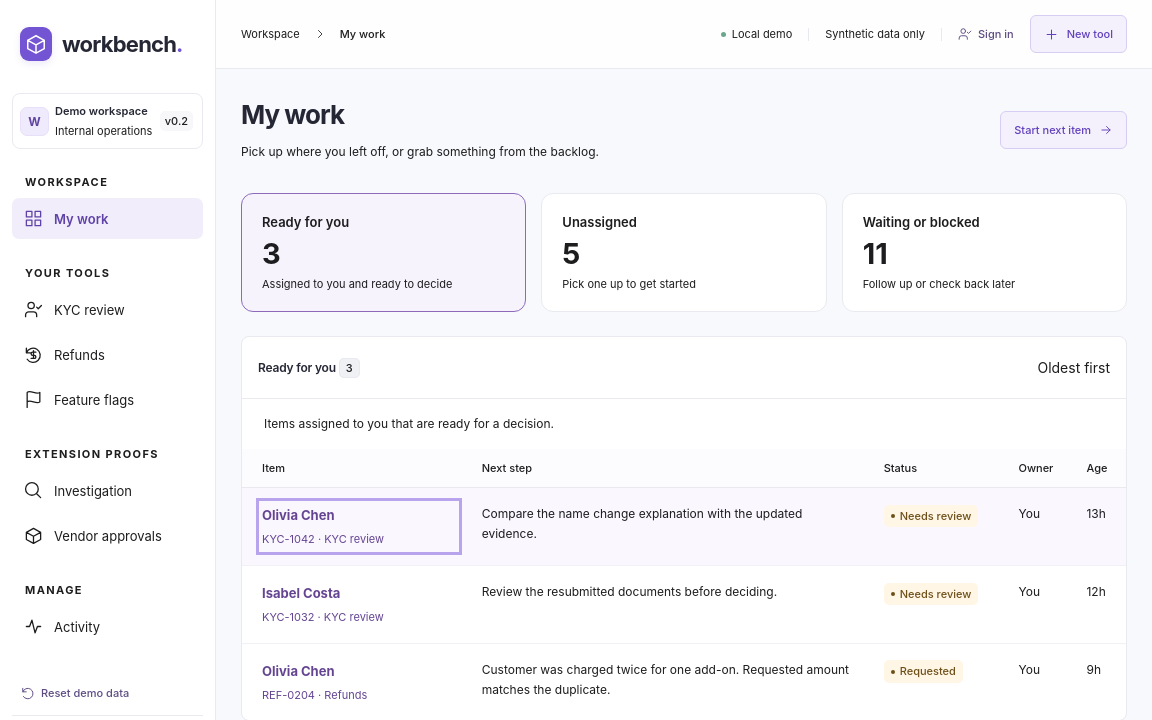
it: task-first local workspace and references (jsdom) › opens the oldest assigned item by keyboard and returns focus to its stable local reference
The width and height of the screenshot is (1152, 720).
Expected: the link "Olivia Chen KYC-1042 · KYC review" is shown, [262,507,384,546]
Press Enter
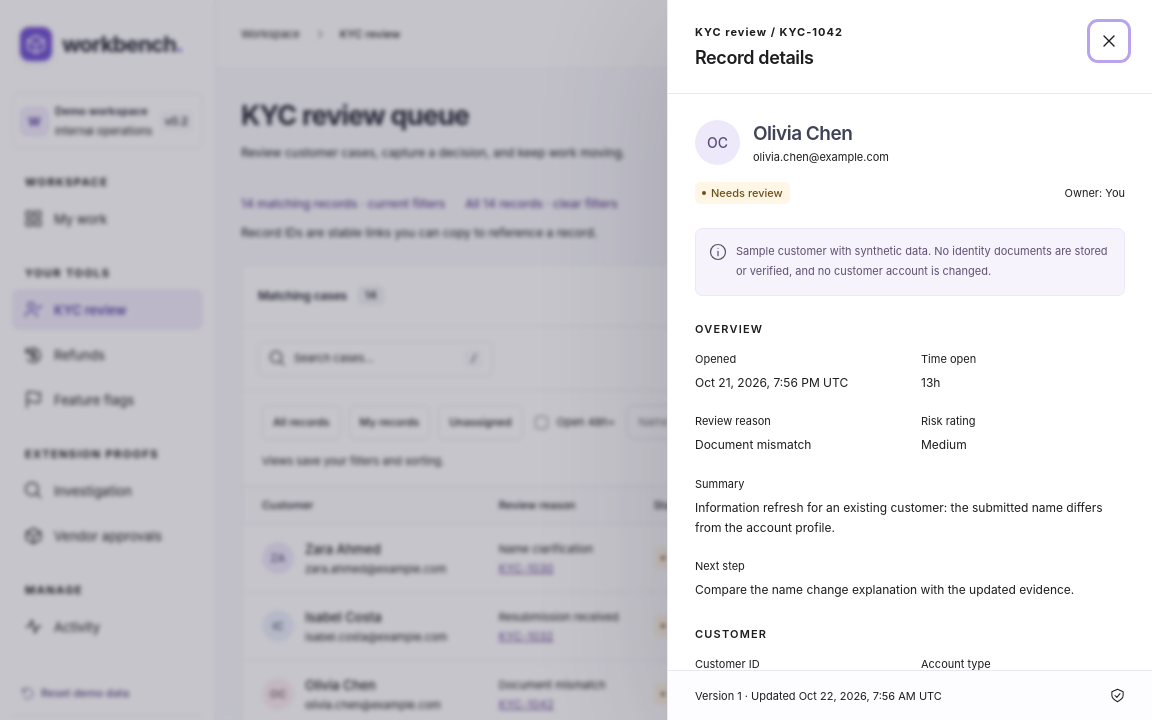
Expected: the heading "Olivia Chen" is shown, [753,122,852,144]
Click the button named "Close dialog" at (1109, 41), box [1093,25,1125,57]
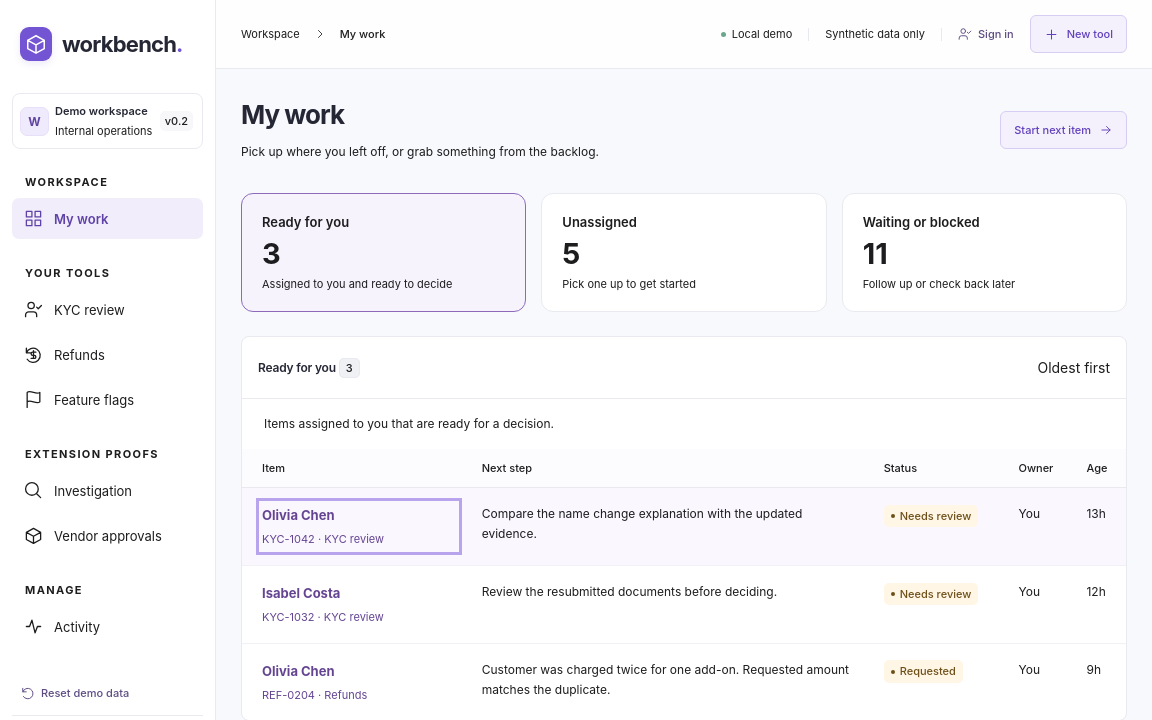
Now the dialog is gone
Now the heading "My work" is shown, box [241,99,344,130]
